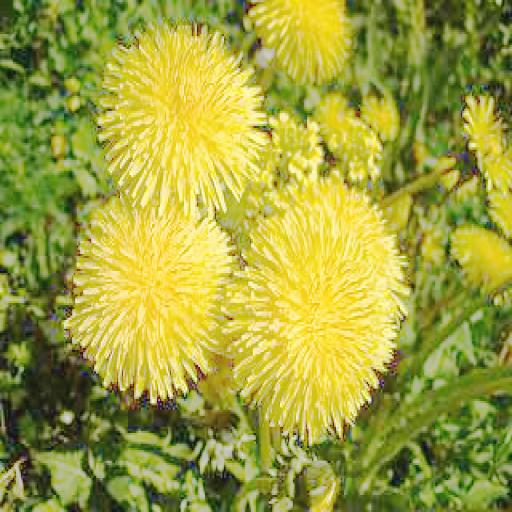dandelion: (230, 175, 412, 439), (69, 192, 246, 399), (104, 26, 274, 216)
